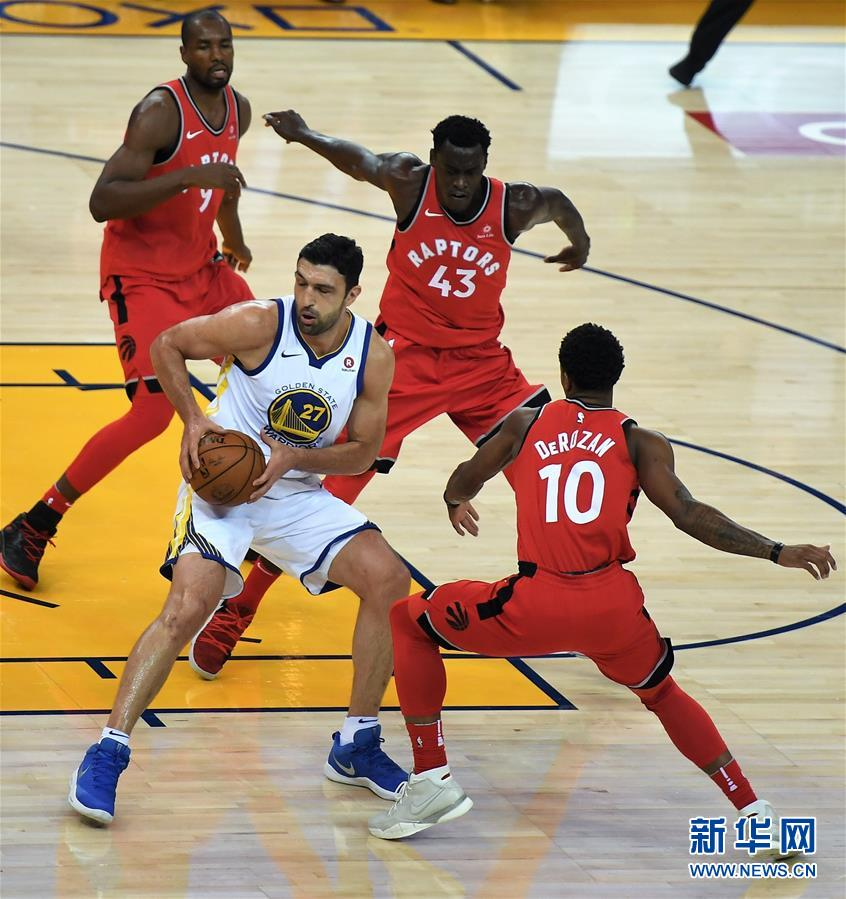ball: (185, 429, 267, 508)
